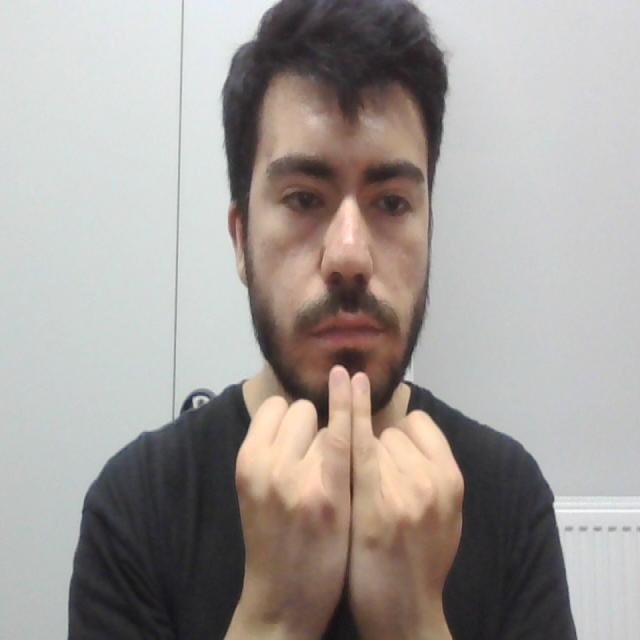Kardes: (224, 352, 470, 640)
